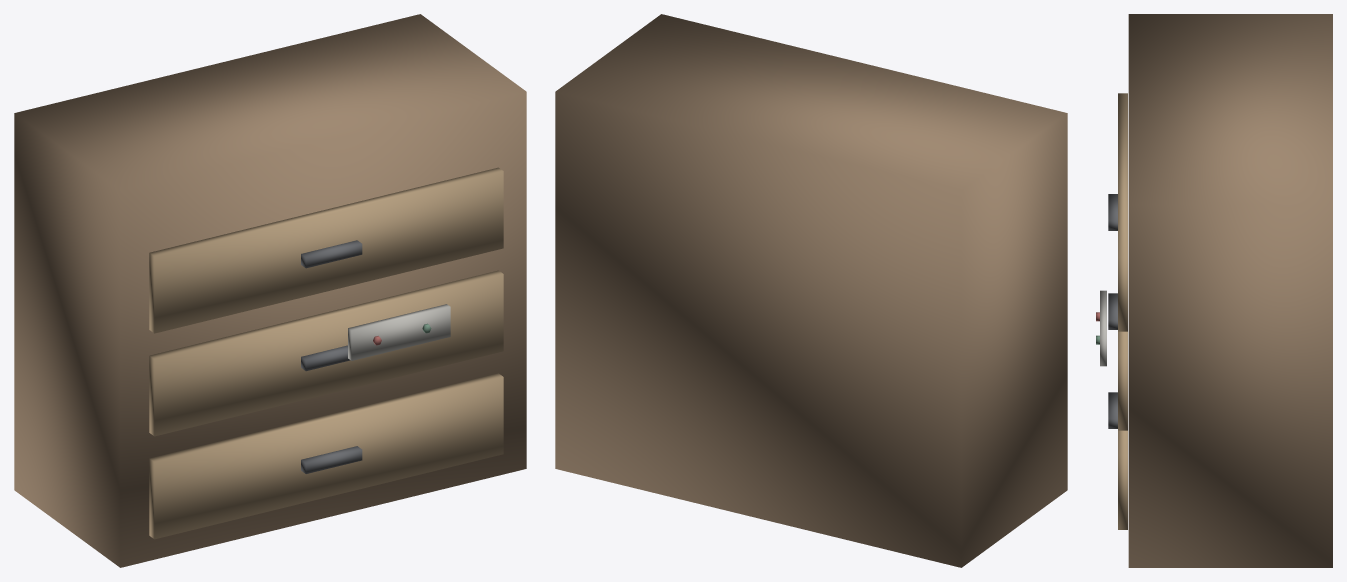
The model's file is dresser__tall.glb.
3 views of the same model, side by side, from view 1: azimuth 30°, elevation 25°; view 2: azimuth 150°, elevation 25°; view 3: azimuth 270°, elevation 25° (orthographic). The views are drawn at different scales.
Visible parts, largest first — view 1: world; view 2: world; view 3: world.
Part boxes in pixels (x1,y1,x2,y2): world: [14, 14, 526, 567]; world: [555, 14, 1067, 567]; world: [1096, 14, 1332, 567].
Bounding box in the file's own units: 1.15 × 1.02 × 0.6035.
